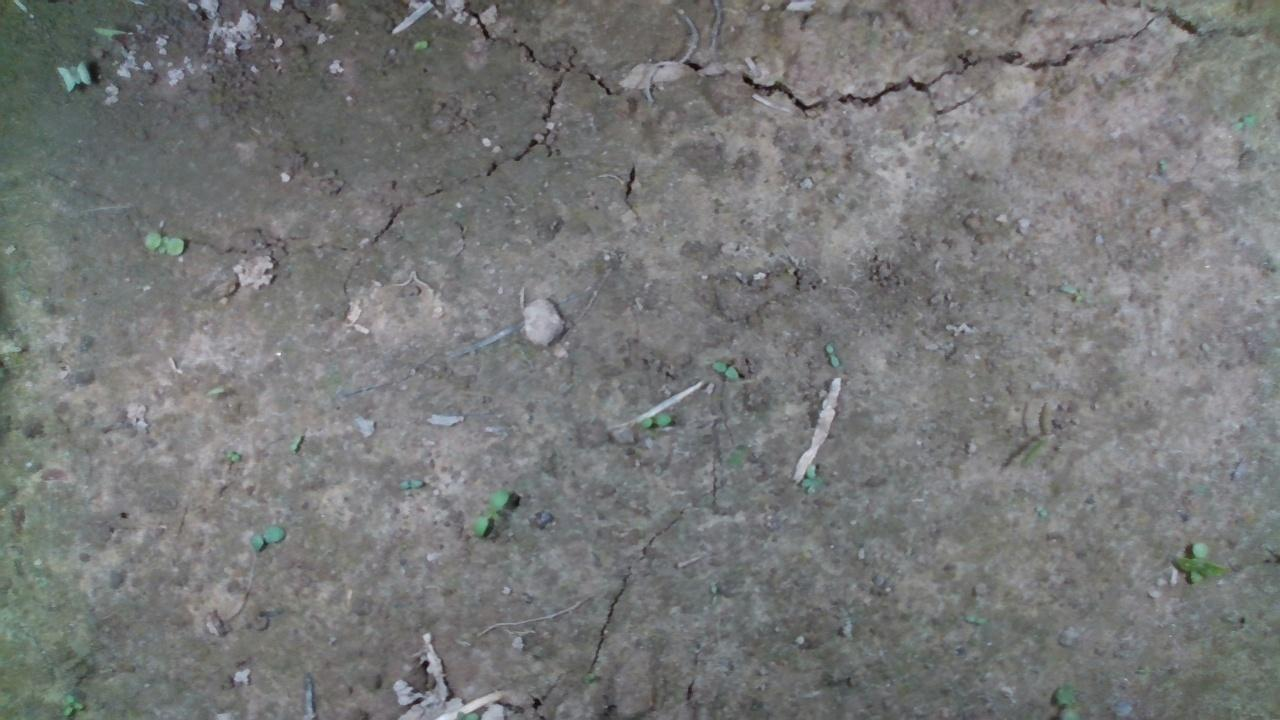weed: (1018, 397, 1053, 467), (471, 487, 511, 538), (140, 230, 185, 255), (247, 524, 287, 551), (637, 410, 672, 428), (710, 359, 739, 379), (61, 692, 83, 718), (822, 341, 840, 367), (394, 477, 424, 490), (288, 430, 302, 452), (223, 448, 239, 461)
